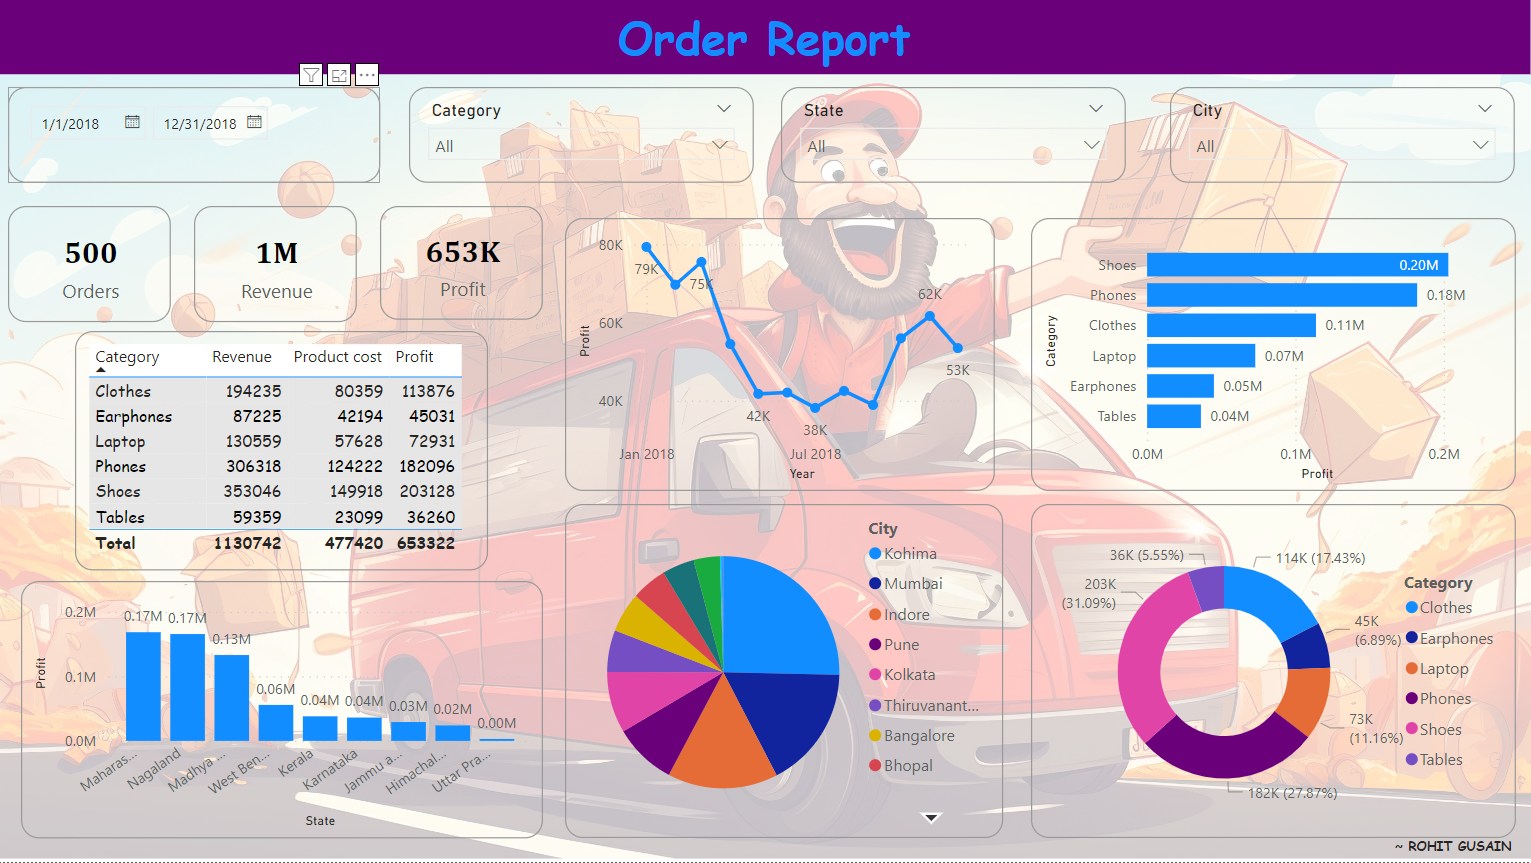

This screenshot's page, from the dashboard's own definition file:
{"tool":"powerbi","page":{"name":"Page 1","canvas":[1280,720],"ordinal":0},"visuals":[{"type":"textbox","box":[0,0,1280,61.7],"z":0},{"type":"card","fields":{"Values":["CountNonNull(Orders.Order ID)"]},"box":[8.2,171.8,136.4,97.3],"z":1000},{"type":"card","fields":{"Values":["Sum(Orders.Profit)"]},"box":[319.1,171.8,136.4,94.5],"z":2000},{"type":"card","fields":{"Values":["Sum(Orders.order_total)"]},"box":[163.6,171.8,136.4,97.3],"z":3000},{"type":"lineChart","fields":{"Category":["Orders.Order Date.Variation.Date Hierarchy.Year","Orders.Order Date.Variation.Date Hierarchy.Month"],"Y":["Sum(Orders.Profit)"]},"box":[473.6,181.8,359.1,228.2],"z":4000},{"type":"clusteredBarChart","fields":{"Y":["Sum(Orders.Profit)"],"Category":["Orders.Category"]},"box":[862.7,181.8,404.5,228.2],"z":5000},{"type":"clusteredColumnChart","fields":{"Category":["Orders.State"],"Y":["Sum(Orders.Profit)"]},"box":[19.1,485.5,436.4,214.5],"z":6000},{"type":"pieChart","fields":{"Category":["Orders.City"],"Y":["Sum(Orders.Profit)"]},"box":[473.6,420.9,366.4,279.1],"z":7000},{"type":"donutChart","title":"Profit by Category","fields":{"Y":["Sum(Orders.Profit)"],"Series":["Orders.Category"]},"box":[862.7,420.9,404.5,279.1],"z":8000},{"type":"tableEx","fields":{"Values":["Orders.Category","Sum(Orders.order_total)","Sum(Orders.Product cost)","Sum(Orders.Profit)"]},"box":[64.5,276.4,345.5,200],"z":9000},{"type":"slicer","fields":{"Values":["Orders.Order Date"]},"box":[8.2,72.7,310.9,80],"z":9001},{"type":"slicer","fields":{"Values":["Orders.Category"]},"box":[343.6,72.7,288.2,80],"z":9002},{"type":"slicer","fields":{"Values":["Orders.State"]},"box":[653.6,72.7,288.2,80],"z":9003},{"type":"slicer","fields":{"Values":["Orders.City"]},"box":[979.1,72.7,288.2,80],"z":9004},{"type":"textbox","box":[1161.8,691.8,118.2,28.2],"z":9005}]}

Visuals, with their boxes in screenshot pixels (x1, y1, x2, y2), scaled from the page's 1280x720 canvas onto the 1531x863 screenshot:
textbox: 0,0,1530,74
card - CountNonNull(Orders.Order ID): 10,206,173,323
card - Sum(Orders.Profit): 382,206,545,319
card - Sum(Orders.order_total): 196,206,359,323
lineChart - Orders.Order Date.Variation.Date Hierarchy.Year x Orders.Order Date.Variation.Date Hierarchy.Month: 566,218,996,491
clusteredBarChart - Sum(Orders.Profit) x Orders.Category: 1032,218,1516,491
clusteredColumnChart - Orders.State x Sum(Orders.Profit): 23,582,545,839
pieChart - Orders.City x Sum(Orders.Profit): 566,504,1005,839
"Profit by Category" donutChart: 1032,504,1516,839
tableEx - Orders.Category x Sum(Orders.order_total): 77,331,490,571
slicer - Orders.Order Date: 10,87,382,183
slicer - Orders.Category: 411,87,756,183
slicer - Orders.State: 782,87,1126,183
slicer - Orders.City: 1171,87,1516,183
textbox: 1390,829,1530,862
